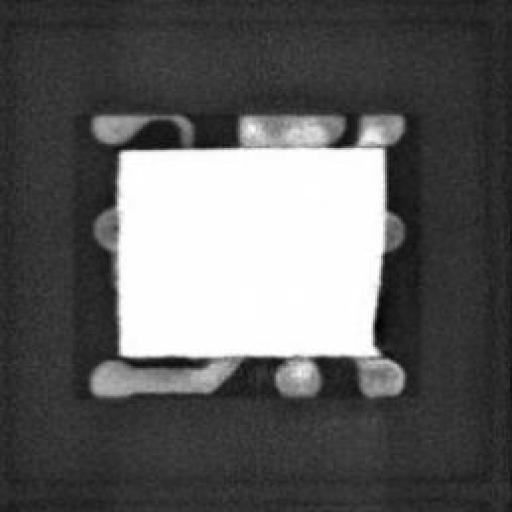DIE_BROKEN: (365, 252, 387, 355)
